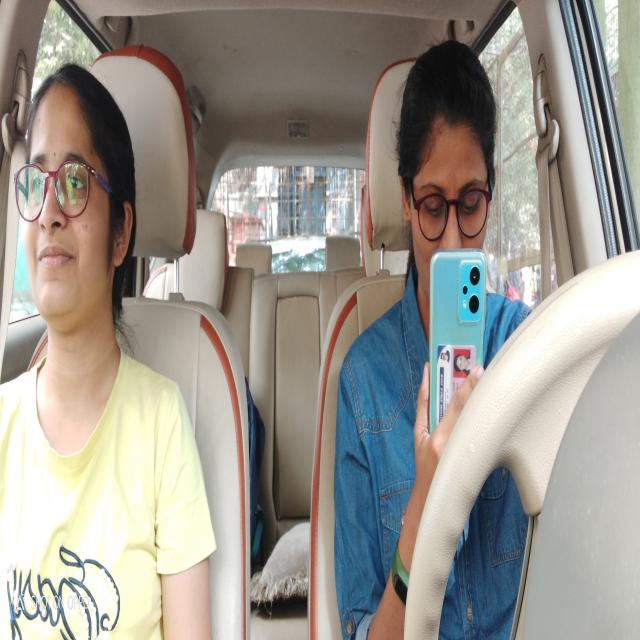mobile: (428, 243, 485, 440)
person: (10, 61, 136, 330), (398, 26, 500, 332)
